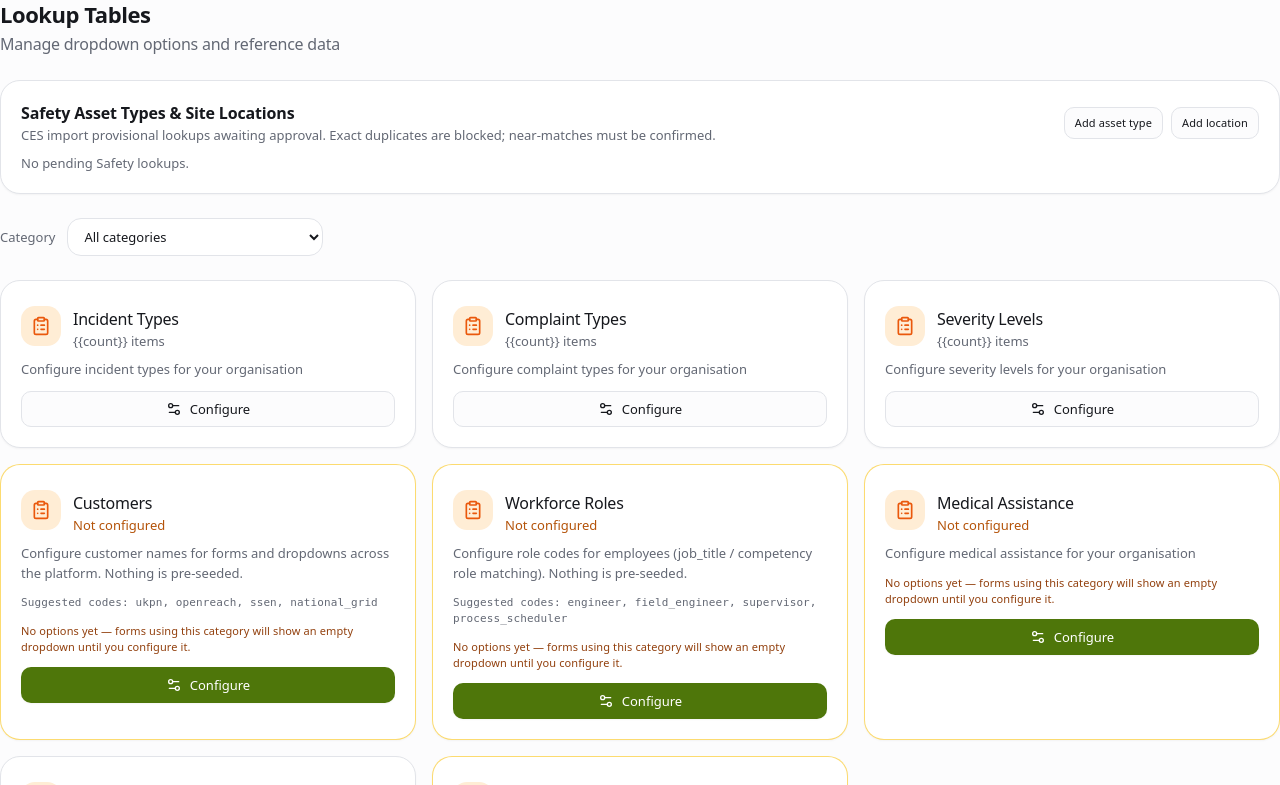
Test case: LookupTables configure CTA › opens editor from Configure CTA and loads real options
Click the button with test id "lookup-configure-incident_types".
click(208, 409)  # box [21,391,395,427]
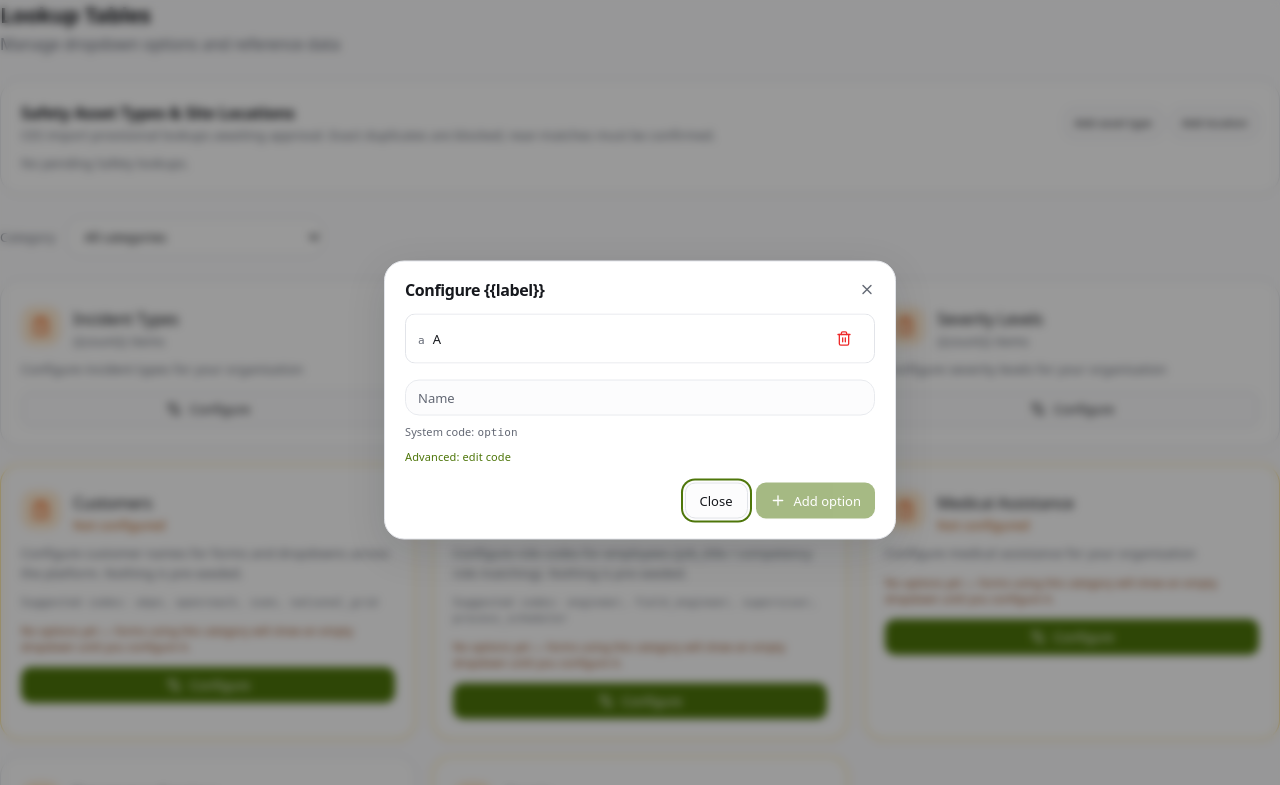
Result: the dialog with test id "lookup-editor-dialog" is shown at [384,260,896,540]
Result: the list with test id "lookup-editor-list" shows "a" at [418,334,425,346]
